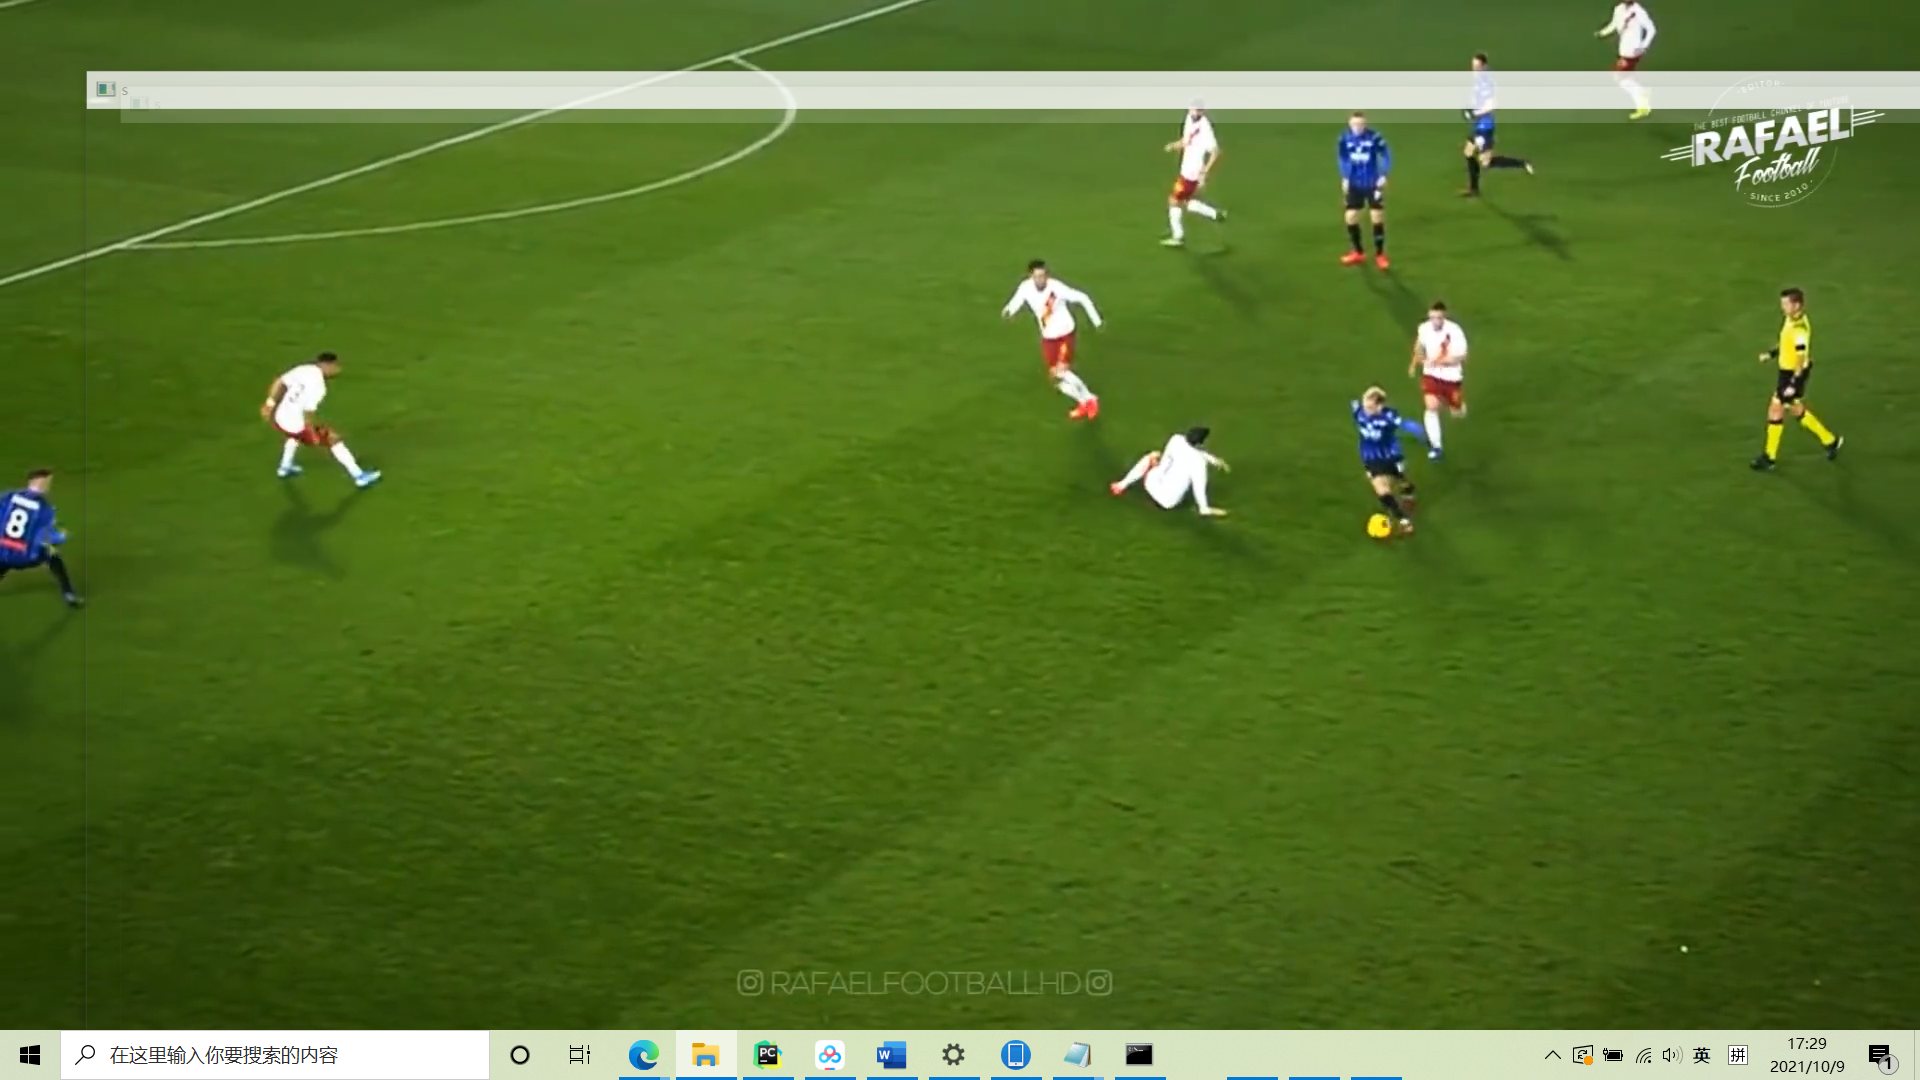ft: (1365, 509, 1395, 542)
